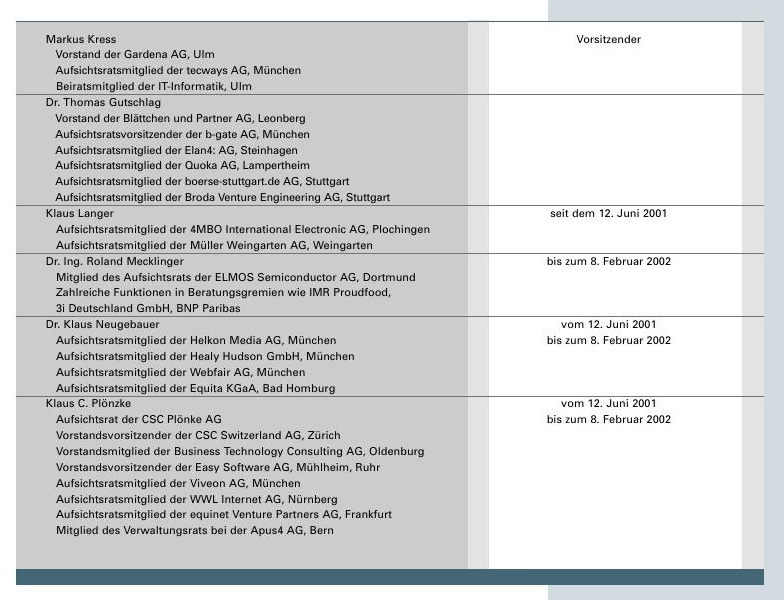table: (0, 0, 784, 600)
